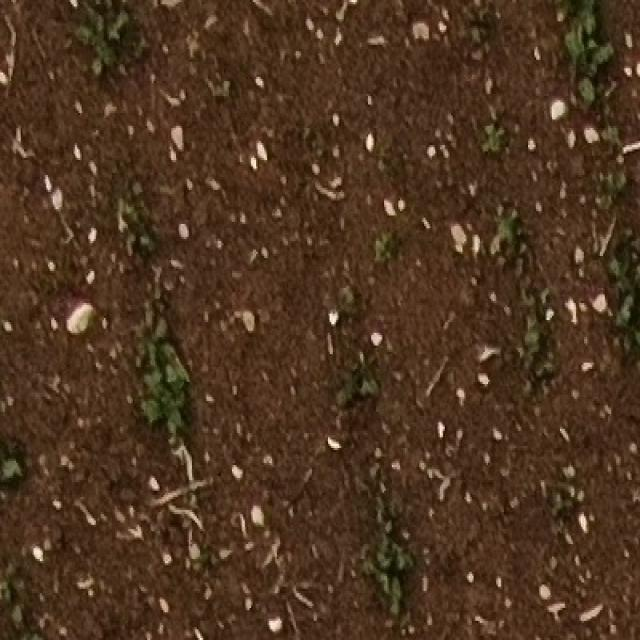cirse: (72, 3, 136, 82), (67, 8, 132, 83), (75, 4, 139, 80)
